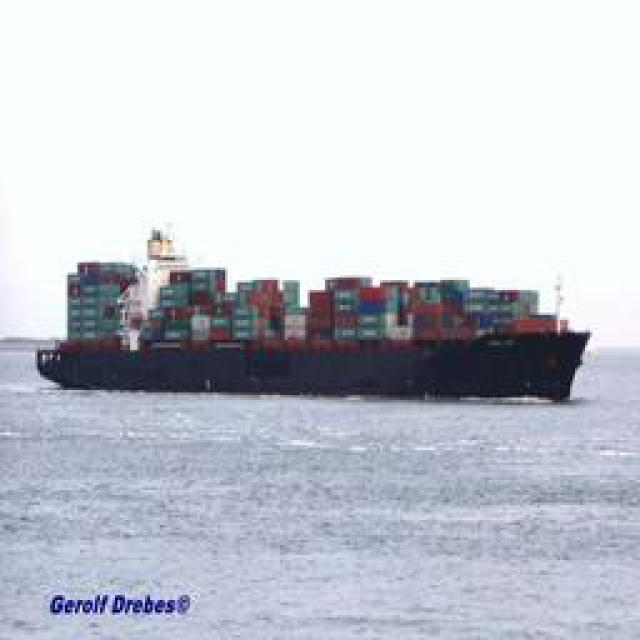Ship: (31, 224, 604, 404)
